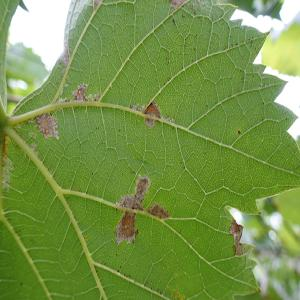Folha: (0, 0, 299, 298)
Fungo: (114, 173, 170, 245), (34, 82, 100, 140), (116, 174, 150, 212), (132, 99, 174, 129), (114, 210, 138, 245), (35, 112, 59, 140), (228, 218, 244, 256), (0, 157, 13, 200), (143, 100, 161, 129), (116, 193, 144, 211), (134, 173, 150, 200), (146, 202, 170, 219), (72, 82, 88, 102), (229, 219, 243, 238), (28, 142, 38, 156), (169, 0, 185, 8), (94, 92, 100, 102), (172, 18, 175, 25), (181, 13, 185, 18), (238, 130, 240, 135)
